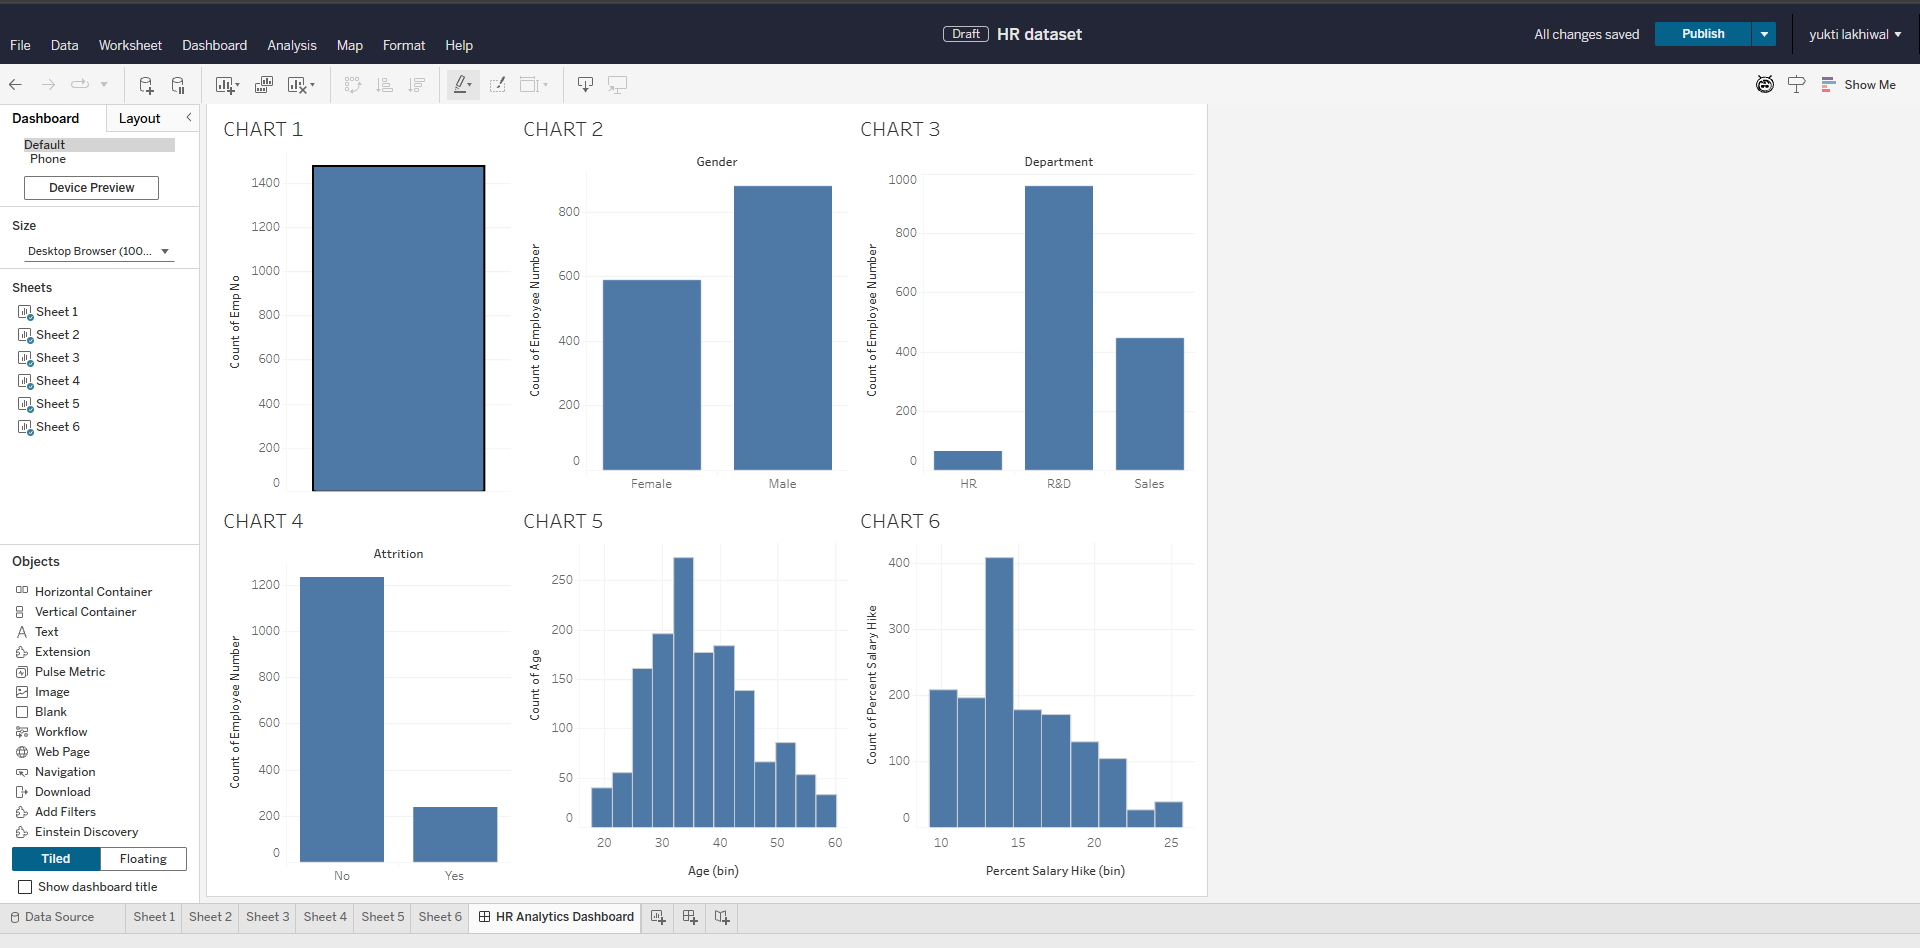

The dashboard page shown, as its layout file describes it:
{"tool":"tableau","page":{"name":"Dashboard 1","canvas":[1000,800],"ordinal":0},"visuals":[{"type":"worksheet","title":"Sheet 1","mark":"Automatic","rows":["Employee Number"],"box":[8,8,298,392]},{"type":"worksheet","title":"Sheet 2","mark":"Automatic","rows":["Employee Number"],"cols":["Gender"],"box":[306,8,339,392]},{"type":"worksheet","title":"Sheet 3","mark":"Automatic","rows":["Employee Number"],"cols":["Department"],"box":[645,8,347,392]},{"type":"worksheet","title":"Sheet 4","mark":"Automatic","rows":["Employee Number"],"cols":["Attrition"],"box":[8,400,282,392]},{"type":"worksheet","title":"Sheet 5","mark":"Automatic","rows":["Age"],"cols":["Age (bin)"],"box":[290,400,355,392]},{"type":"worksheet","title":"Sheet 6","mark":"Automatic","rows":["Percent Salary Hike"],"cols":["Percent Salary Hike (bin)"],"box":[645,400,347,392]}]}

Visuals, with their boxes on the page's 1000x800 design canvas (x1, y1, x2, y2). These are canvas units, not pixel positions in the 1920x948 screenshot, which may show the page scaled, cropped or inside an application window:
"Sheet 1" worksheet: 8 8 306 400
"Sheet 2" worksheet: 306 8 645 400
"Sheet 3" worksheet: 645 8 992 400
"Sheet 4" worksheet: 8 400 290 792
"Sheet 5" worksheet: 290 400 645 792
"Sheet 6" worksheet: 645 400 992 792
